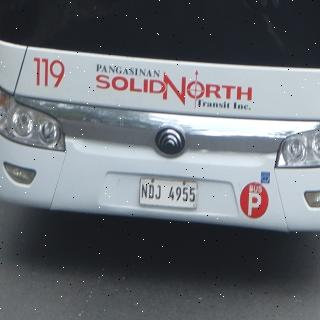license: (140, 179, 198, 209)
